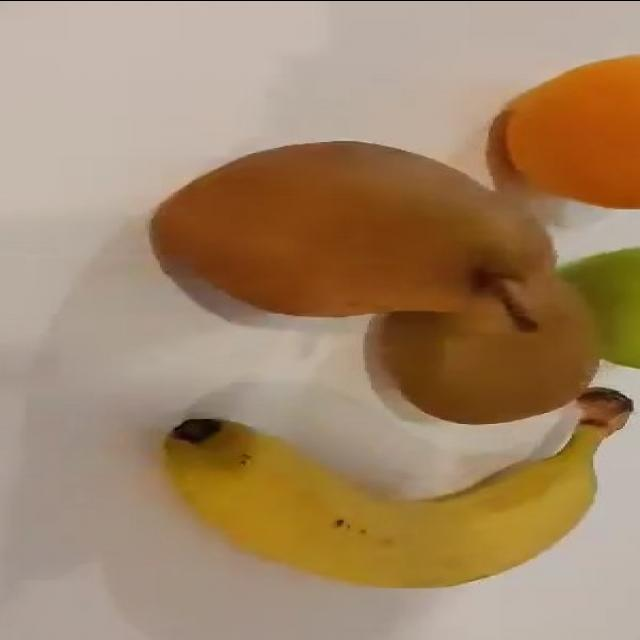Apple: (557, 245, 640, 372)
Banana: (159, 412, 603, 594)
Orange: (502, 53, 640, 213)
